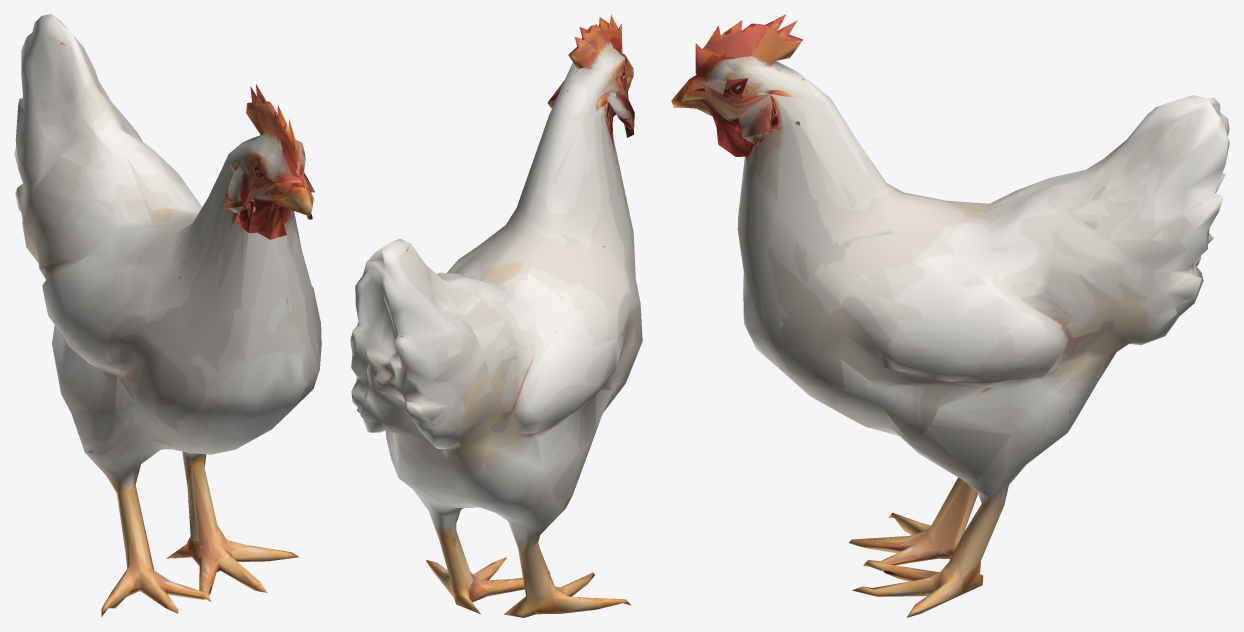
File: chicken2.fbx
3 renders of one model, left to right at view 1: azimuth 30°, elevation 25°; view 2: azimuth 150°, elevation 25°; view 3: azimuth 270°, elevation 25°, orthographic. The views are drawn at different scales.
Visible parts, largest first — view 1: Mesh_0; view 2: Mesh_0; view 3: Mesh_0.
Boxes of the visible parts, x1=… form: Mesh_0: x1=14, y1=14, x2=321, y2=617; Mesh_0: x1=350, y1=14, x2=642, y2=617; Mesh_0: x1=671, y1=14, x2=1229, y2=617.
Size of the model in its own units: 19.72 by 49.96 by 45.03.
1 material, 1 textured.
